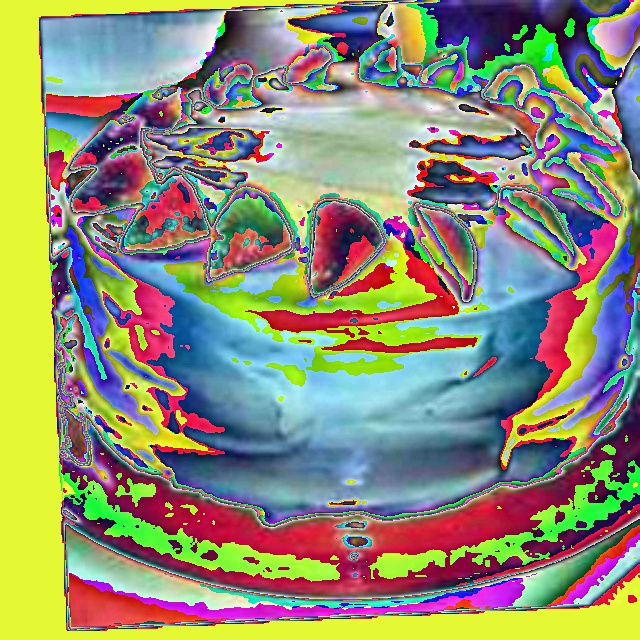background: (55, 33, 639, 529)
